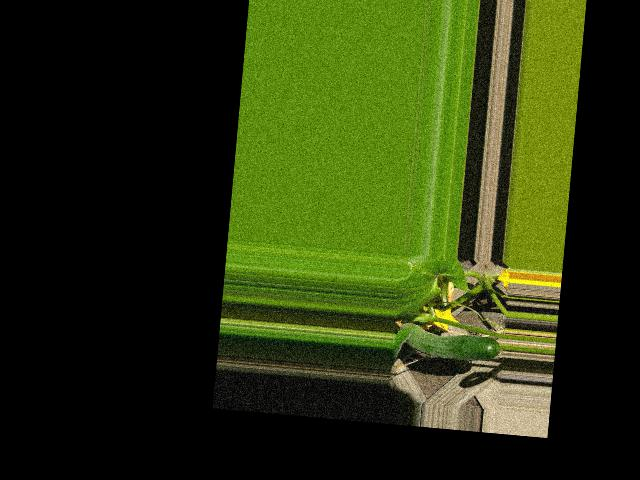cucumber: (391, 321, 499, 363)
